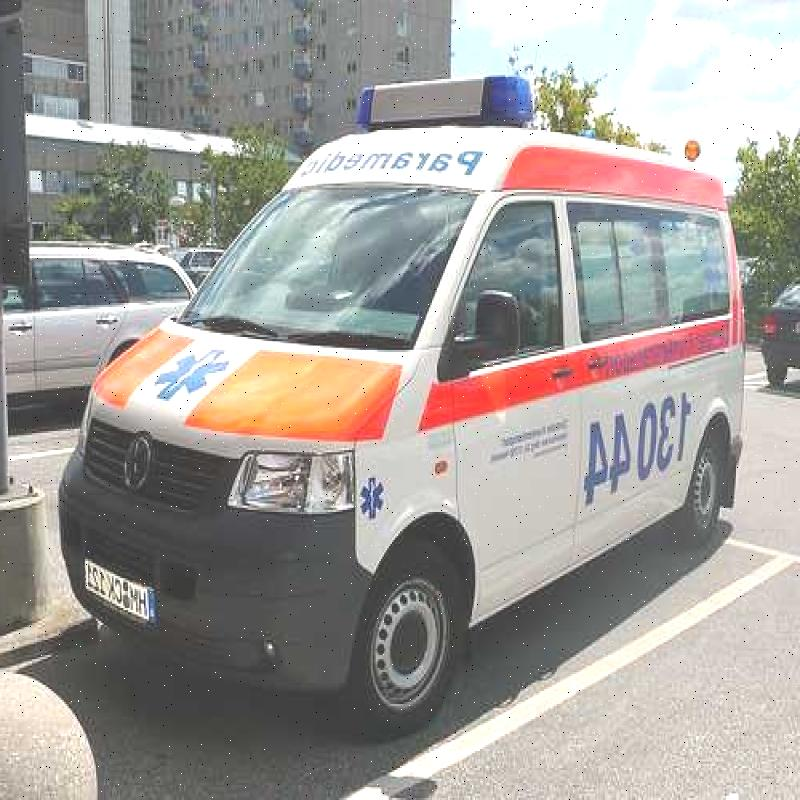AmbulanceSiren: (351, 55, 554, 143)
